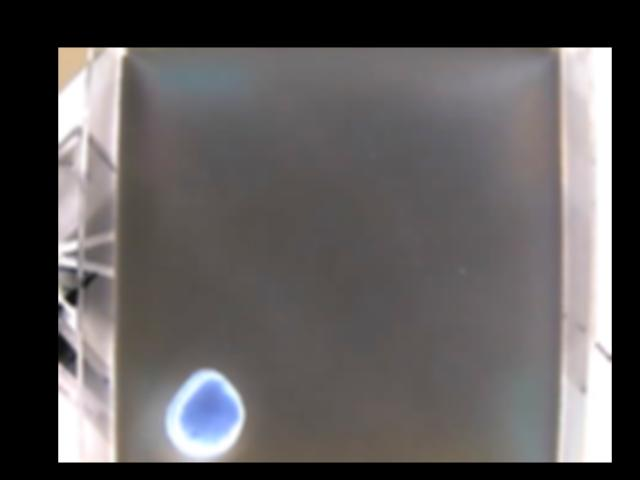Potato: (166, 367, 245, 456)
